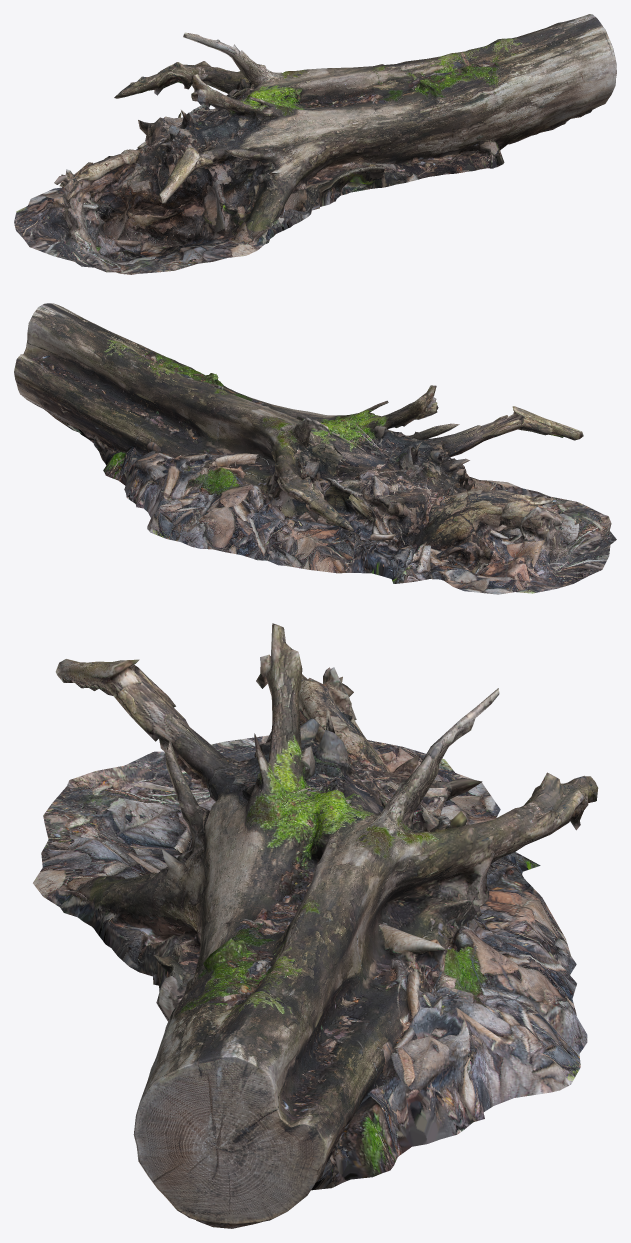
File: SM_TreeStump_02_01.fbx
3 renders of one model, top to bottom at view 1: azimuth 30°, elevation 25°; view 2: azimuth 150°, elevation 25°; view 3: azimuth 270°, elevation 25°, orthographic. The views are drawn at different scales.
Parts seen in each view (by area): view 1: sm_TreeStump_02_01_LOD0; view 2: sm_TreeStump_02_01_LOD0; view 3: sm_TreeStump_02_01_LOD0.
Boxes of the visible parts, x1,y1,x2,y2 form: sm_TreeStump_02_01_LOD0: [14, 14, 616, 274]; sm_TreeStump_02_01_LOD0: [14, 303, 616, 594]; sm_TreeStump_02_01_LOD0: [33, 623, 598, 1228].
Bounding box in the file's own units: 127 × 286 × 85.09.
